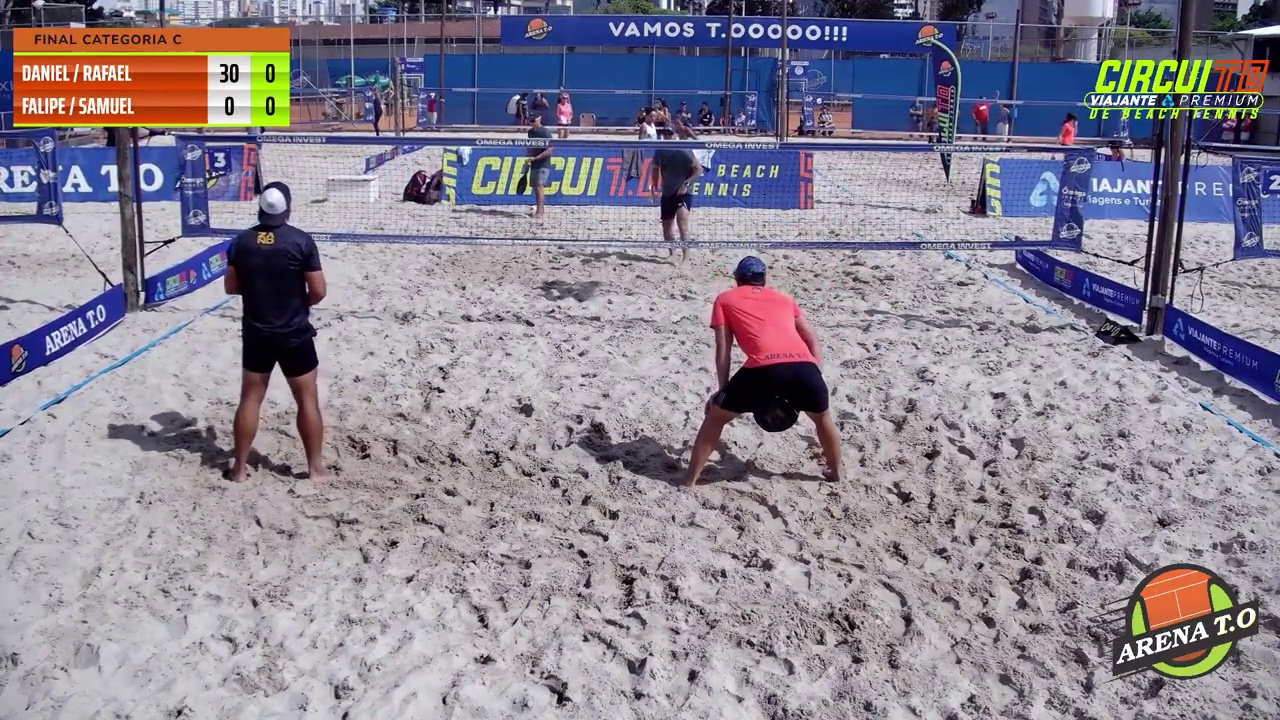court_line: (636, 0, 790, 460)
